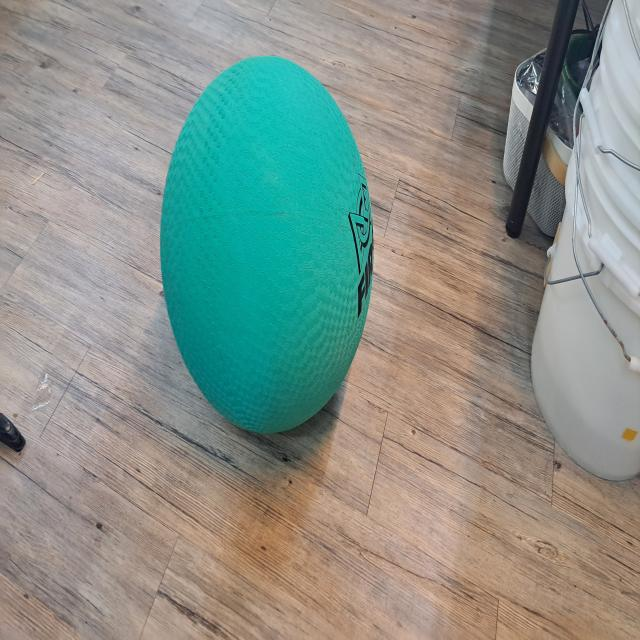ALGAE: (158, 52, 375, 436)
